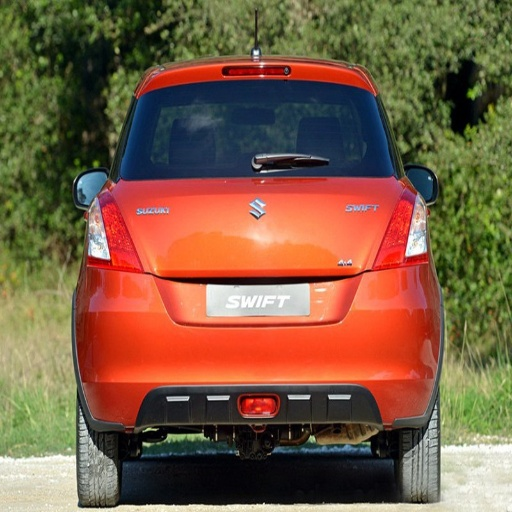back_bumper: (73, 263, 442, 452)
tailgate: (112, 178, 394, 323)
trunk: (144, 177, 409, 276)
